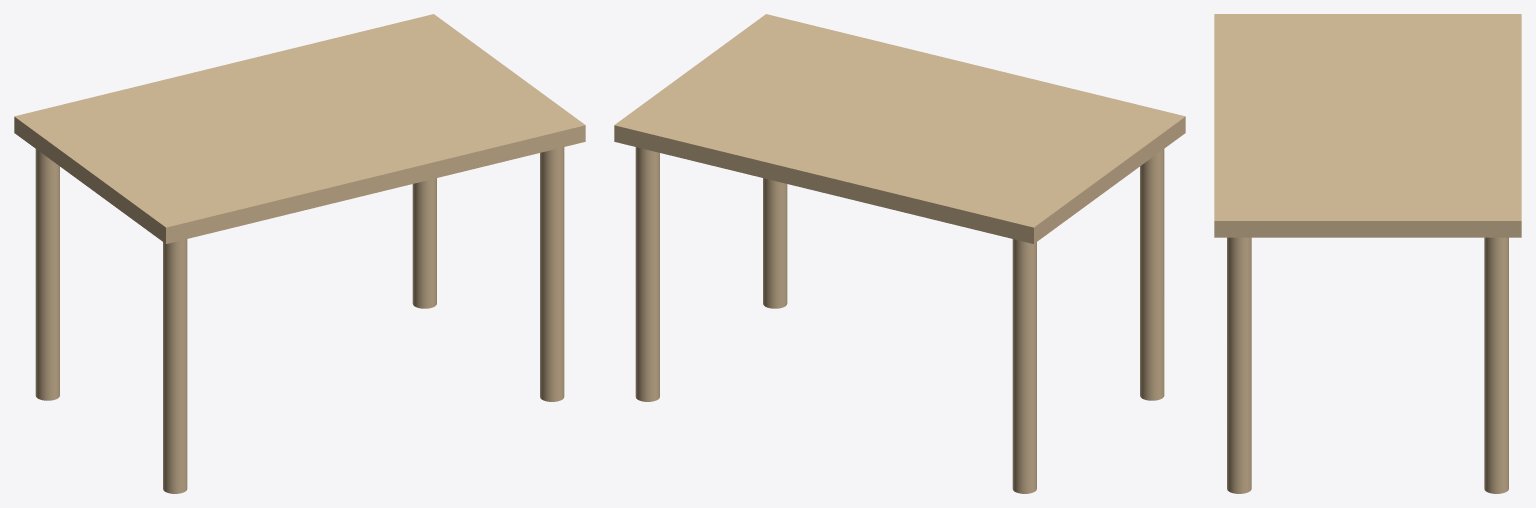
The model's file is ikea-jokkmokk-99481121-g2-proxy.glb.
3 views of the same model, side by side, from view 1: azimuth 30°, elevation 25°; view 2: azimuth 150°, elevation 25°; view 3: azimuth 270°, elevation 25° (orthographic).
Visible parts, largest first — view 1: proxy_body, leg (×4); view 2: proxy_body, leg (×4); view 3: proxy_body, leg (×2).
Boxes of the visible parts, left/top/right/bottom form: proxy_body: left=14, top=14, right=585, bottom=243; leg (×4): left=35, top=147, right=564, bottom=493; proxy_body: left=614, top=14, right=1185, bottom=243; leg (×4): left=635, top=147, right=1164, bottom=493; proxy_body: left=1214, top=14, right=1521, bottom=237; leg (×2): left=1227, top=237, right=1508, bottom=493.
Bounding box in the file's own units: 1.18 × 0.74 × 0.74.
